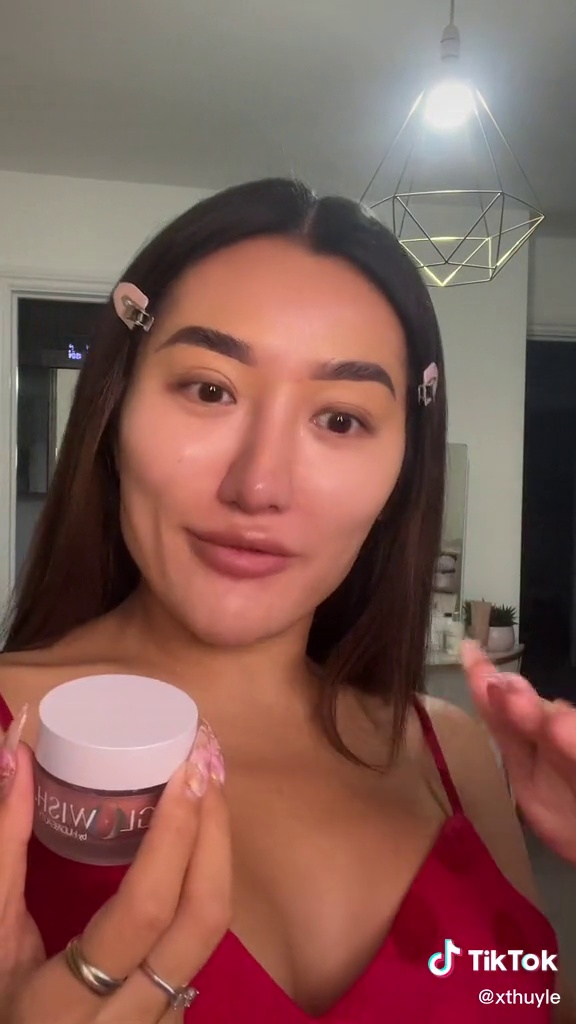train' :'yolo_data/train/images',: (21, 664, 209, 872)
